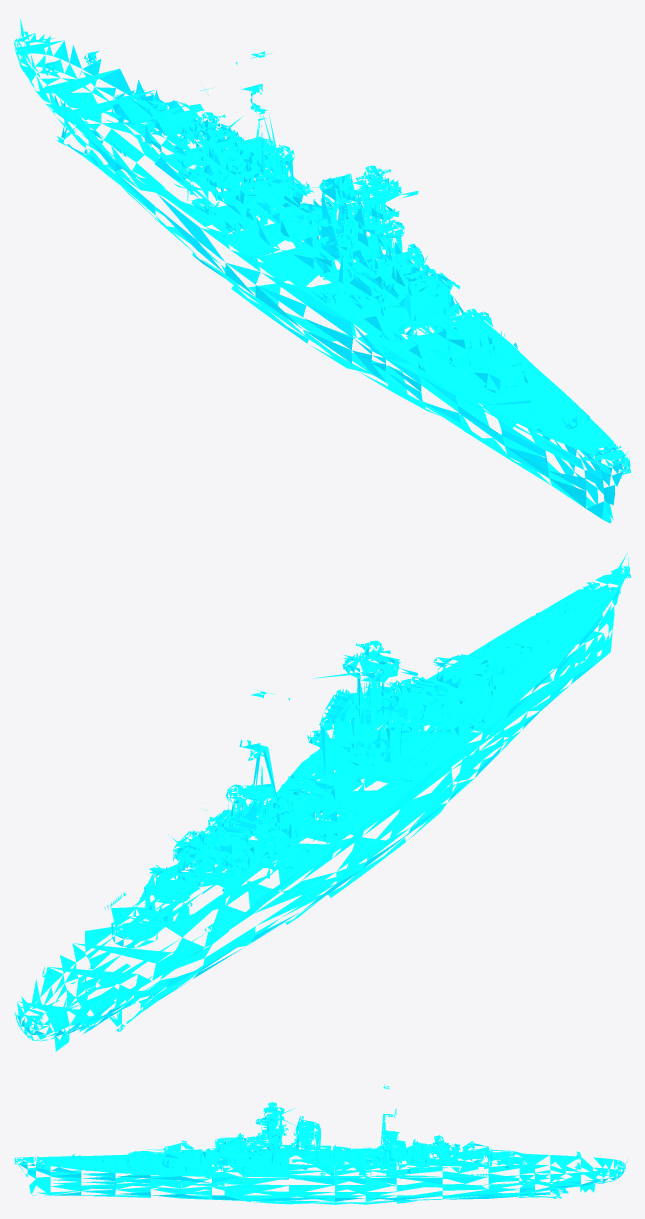
Rendered from Azur_Hindenburg.glb.
3 views of the same model, one above another, from view 1: azimuth 30°, elevation 25°; view 2: azimuth 150°, elevation 25°; view 3: azimuth 270°, elevation 25° (orthographic). The views are drawn at different scales.
Size of the model in its own units: 1.84 by 2.98 by 15.34.
